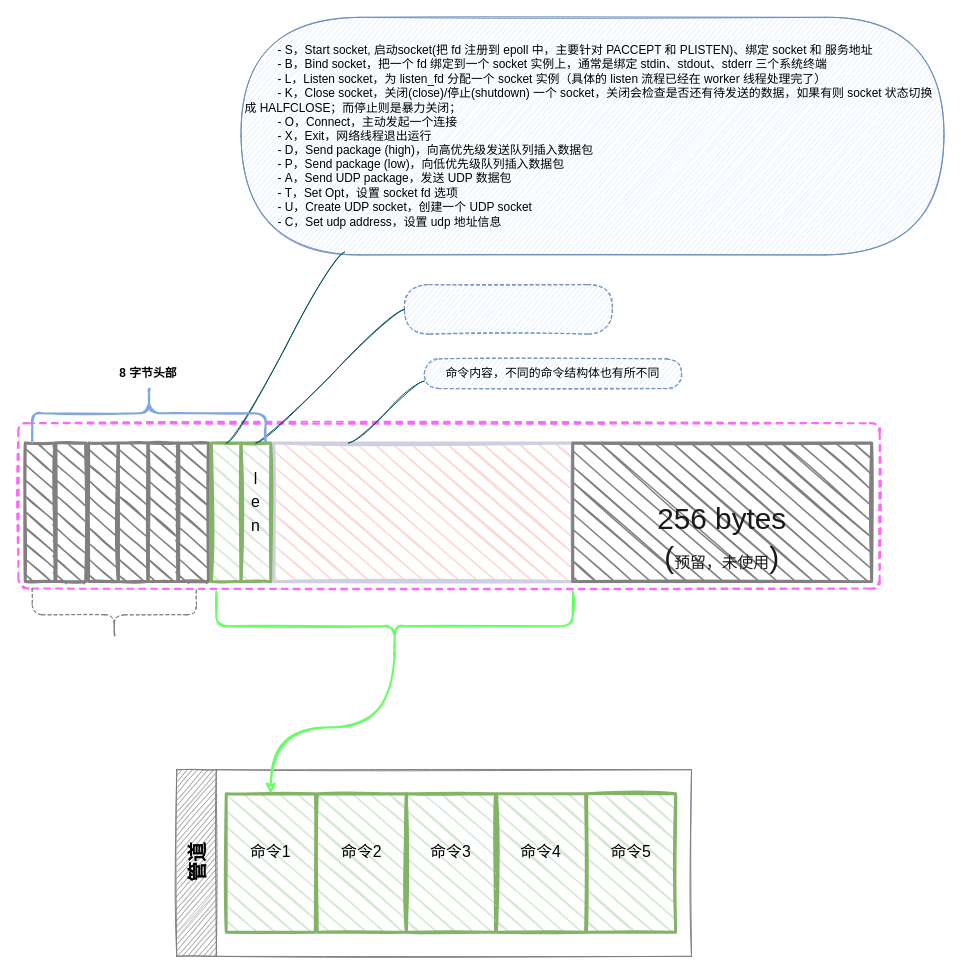
Image size: 961x974. Some labels were removed from this diagram. The shapes that lost their labels are listed below. From the top down, each one's centre as x and y in pixels, then its label:
the point at 507,309: 命令内容长度，一个字节，它限制了命令的消息内容长度 <= 255
the point at 225,512: t y p e
the point at 423,512: 256 bytes
the point at 114,614: 预留，未使用
the point at 394,625: 真实写入到管道的数据
